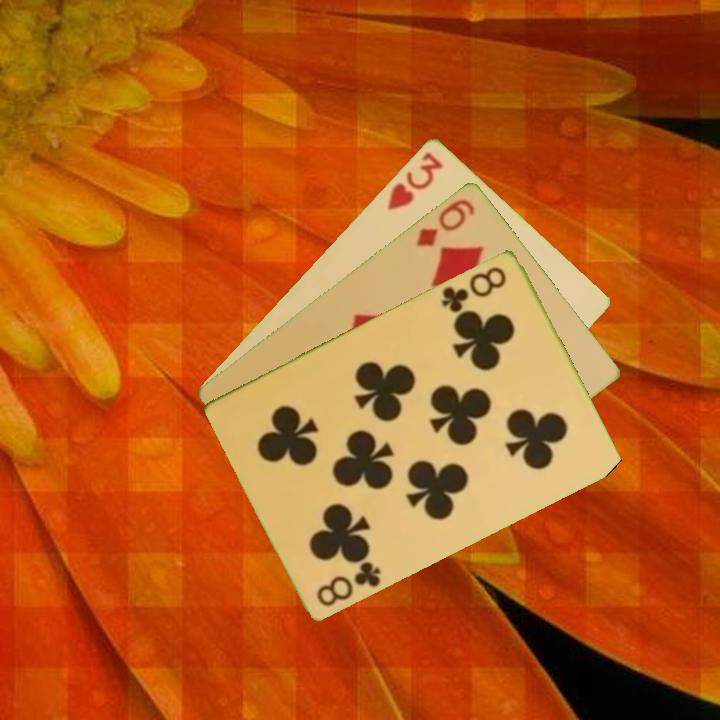3h: (383, 147, 446, 213)
6d: (412, 194, 478, 249)
8c: (438, 262, 510, 315), (313, 557, 384, 609)
